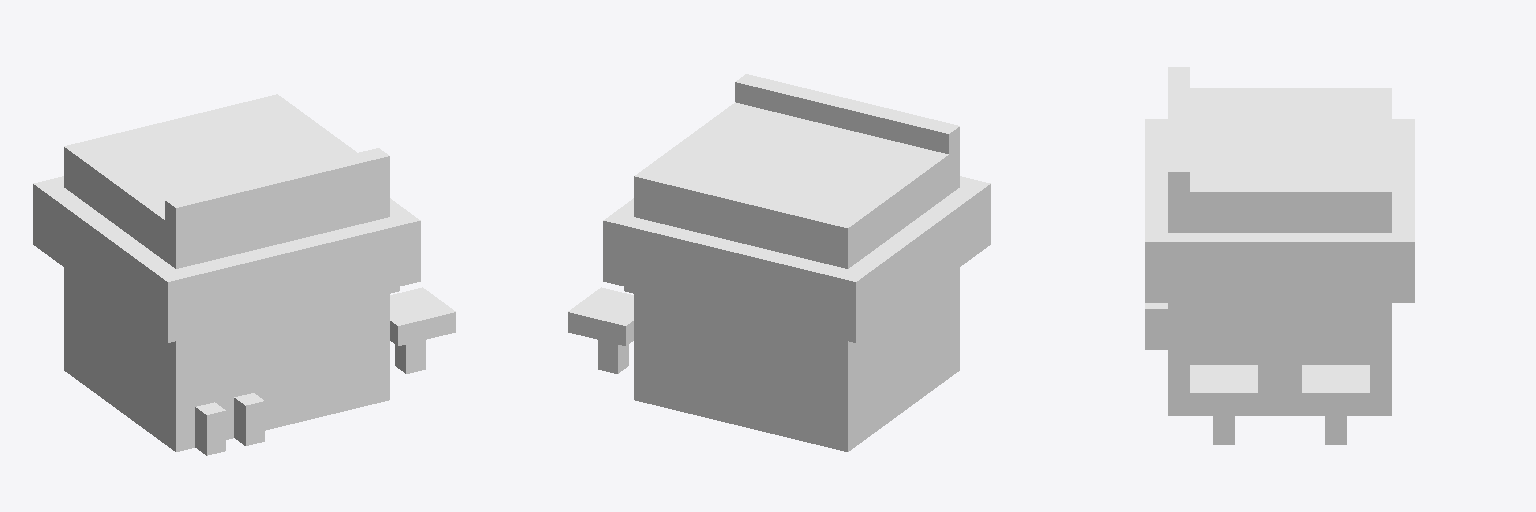
File: Market.obj
3 renders of one model, left to right at view 1: azimuth 30°, elevation 25°; view 2: azimuth 150°, elevation 25°; view 3: azimuth 270°, elevation 25°, orthographic.
Size of the model in its own units: 16 by 12 by 12.